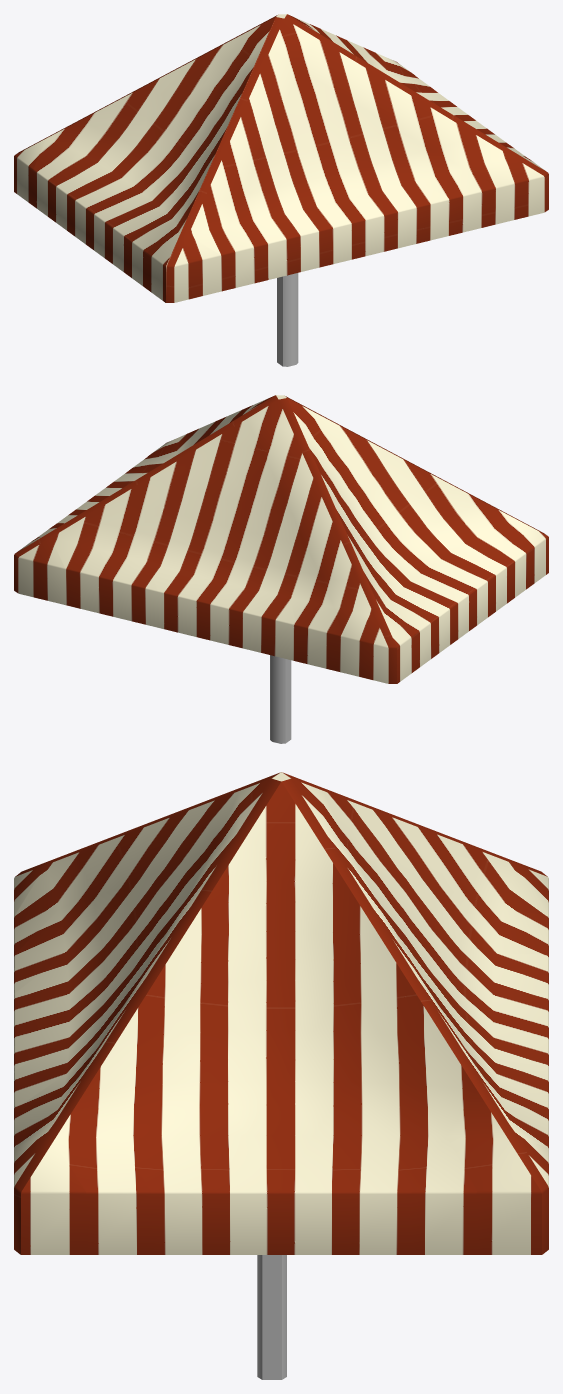
The model's file is SM_BoothTop1.fbx.
3 renders of one model, top to bottom at view 1: azimuth 30°, elevation 25°; view 2: azimuth 150°, elevation 25°; view 3: azimuth 270°, elevation 25°, orthographic. The views are drawn at different scales.
Visible parts, largest first — view 1: Top1; view 2: Top1; view 3: Top1.
Part boxes in pixels (x1,y1,x2,y2): Top1: (14, 14, 548, 366); Top1: (14, 395, 548, 743); Top1: (14, 772, 548, 1379).
Bounding box in the file's own units: 580 × 501 × 409.
